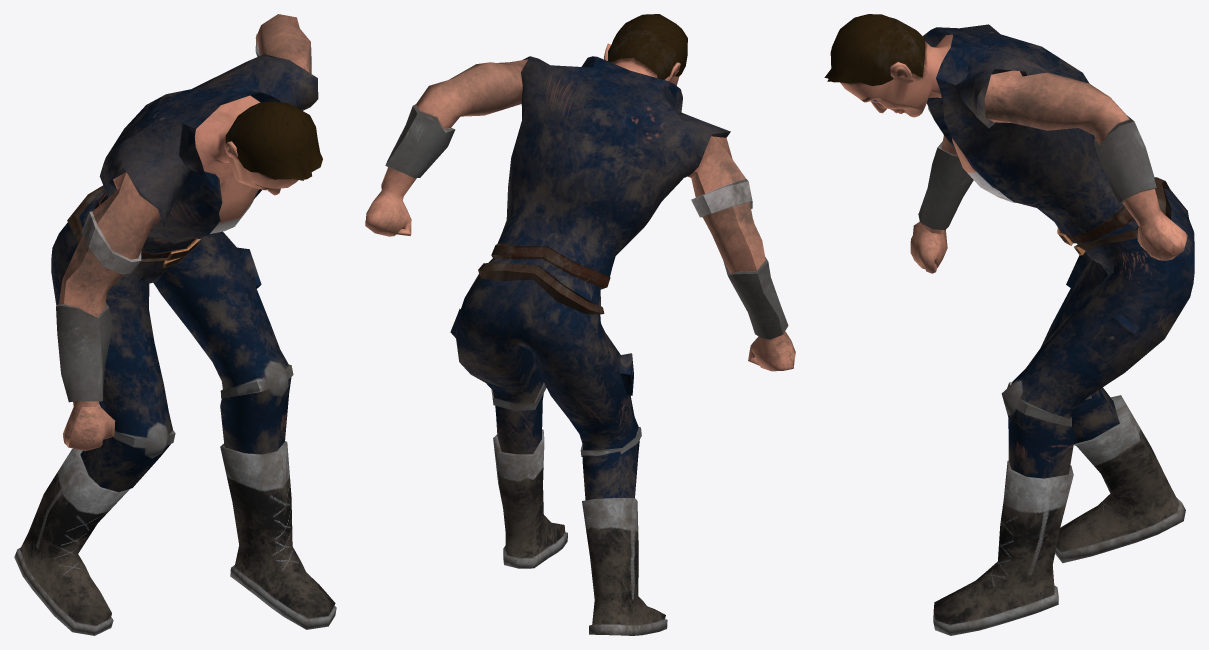
Rendered from Anim_coger_objeto_jugador.0024.obj.
3 renders of one model, left to right at view 1: azimuth 30°, elevation 25°; view 2: azimuth 150°, elevation 25°; view 3: azimuth 270°, elevation 25°, orthographic. The views are drawn at different scales.
Visible parts, largest first — view 1: polySurface1; view 2: polySurface1; view 3: polySurface1.
Boxes of the visible parts, x1,y1,x2,y2 form: polySurface1: [14, 14, 336, 635]; polySurface1: [365, 14, 795, 635]; polySurface1: [824, 14, 1194, 635].
Size of the model in its own units: 4.85 by 7.65 by 4.4.
